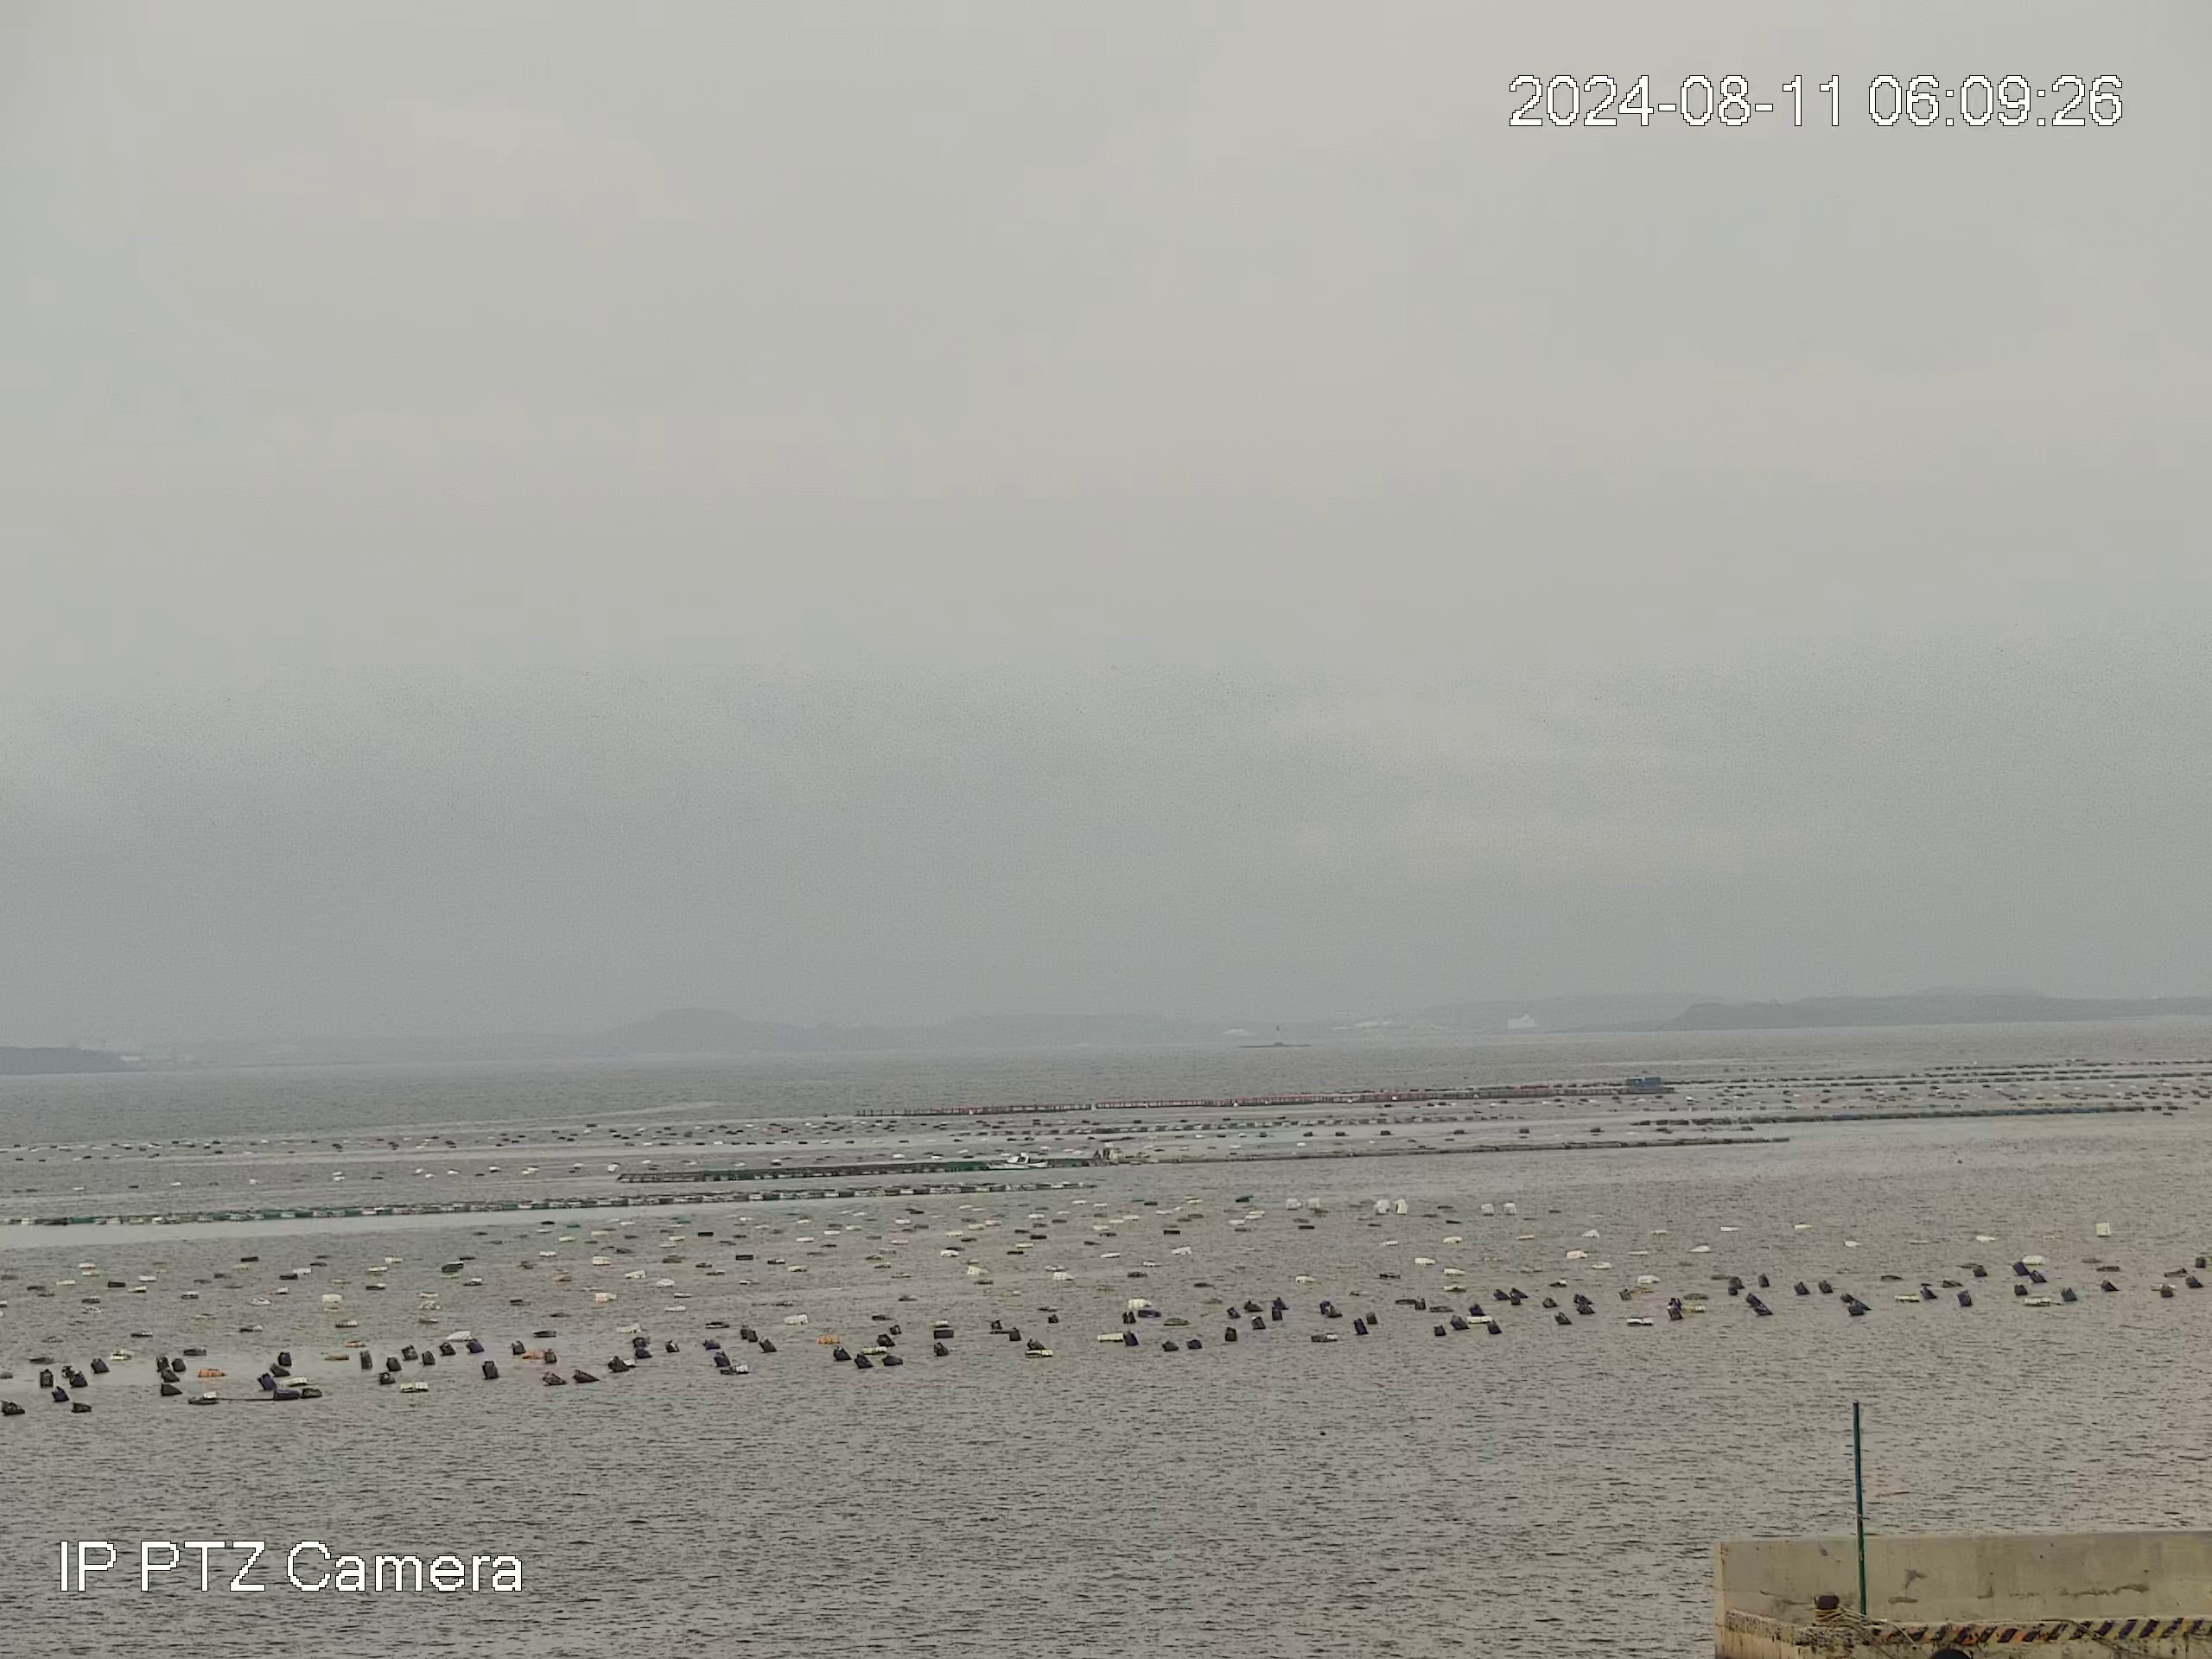boat: (982, 1148, 1050, 1171)
